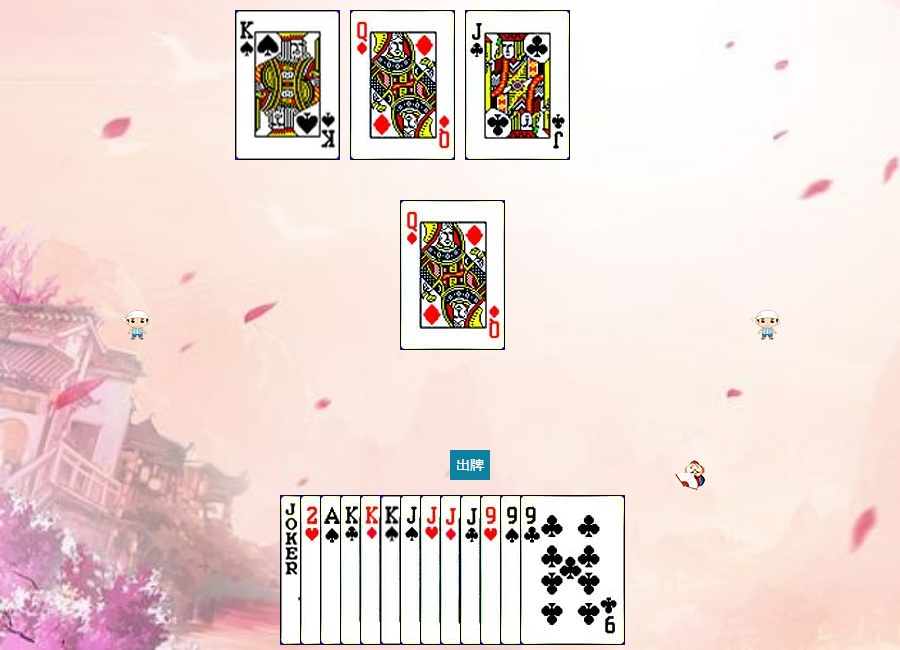11~1: (440, 495, 545, 645)
11~2: (465, 10, 570, 160), (460, 495, 565, 645)
11~3: (420, 495, 525, 645)
11~4: (400, 495, 505, 645)
12~1: (350, 10, 455, 160), (400, 200, 505, 350)
13~1: (360, 495, 465, 645)
13~2: (340, 495, 445, 645)
13~4: (235, 10, 340, 160), (380, 495, 485, 645)
14~4: (320, 495, 425, 645)
15~3: (300, 495, 405, 645)
17~3: (280, 495, 385, 645)
9~2: (520, 495, 625, 645)
9~3: (480, 495, 585, 645)
9~4: (500, 495, 605, 645)
